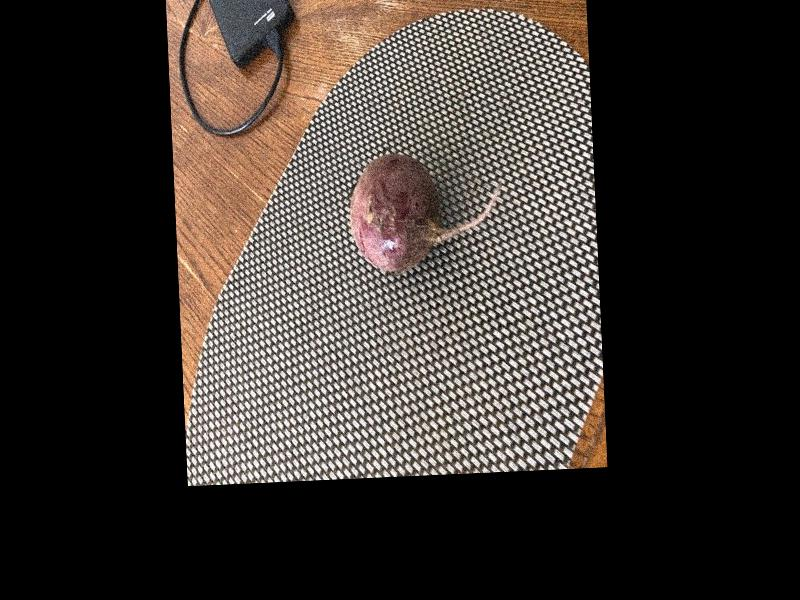Beet: (348, 150, 505, 274)
